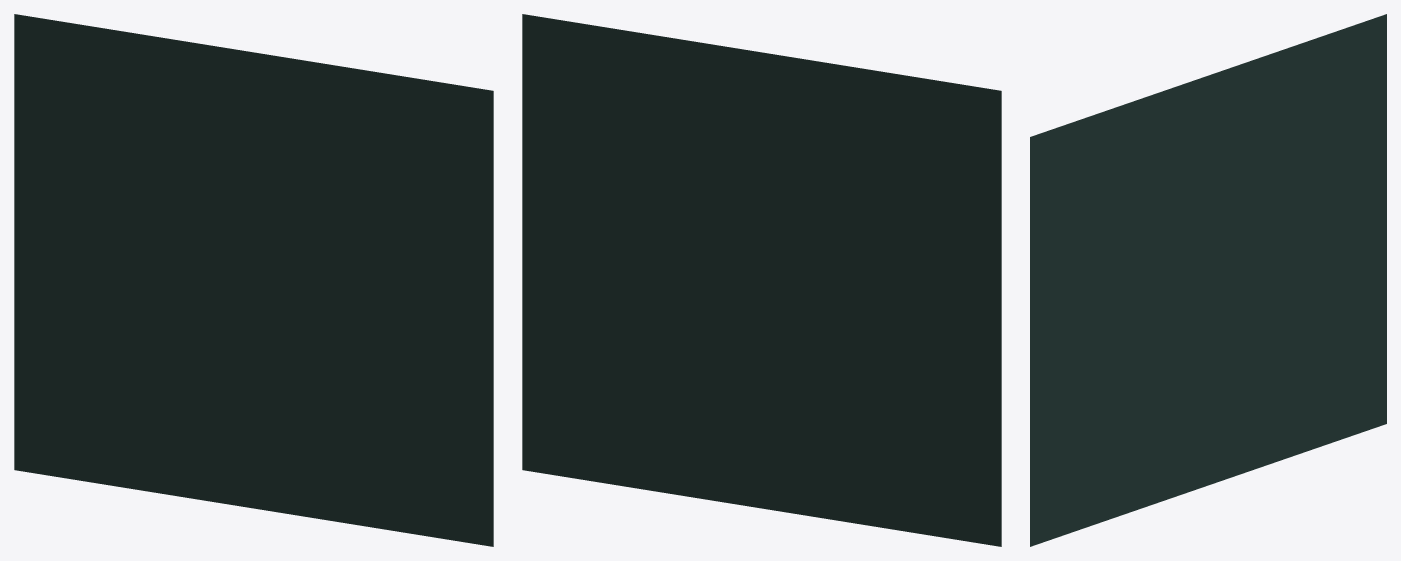
Rendered from SM_TunnelDarkness.fbx.
3 views of the same model, side by side, from view 1: azimuth 30°, elevation 25°; view 2: azimuth 210°, elevation 25°; view 3: azimuth 270°, elevation 25° (orthographic). The views are drawn at different scales.
Visible parts, largest first — view 1: SM_TunnelDarkness; view 2: SM_TunnelDarkness; view 3: SM_TunnelDarkness.
Part boxes in pixels (bbox=[...]): SM_TunnelDarkness: bbox=[14, 14, 493, 546]; SM_TunnelDarkness: bbox=[522, 14, 1001, 546]; SM_TunnelDarkness: bbox=[1030, 14, 1386, 546].
Size of the model in its own units: 354 by 434 by 550.
